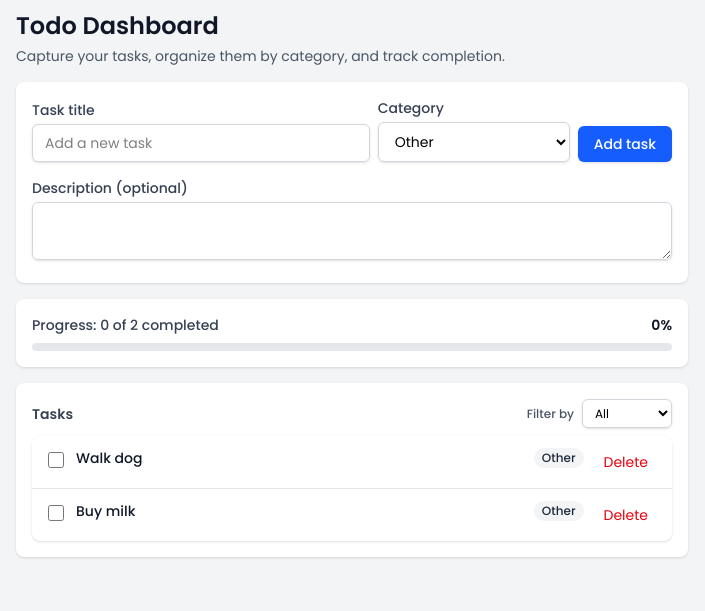
TodoDashboard add task › shows validation error when title is empty
Click the button "Add task": {"x": 625, "y": 144} [578,126,672,162]
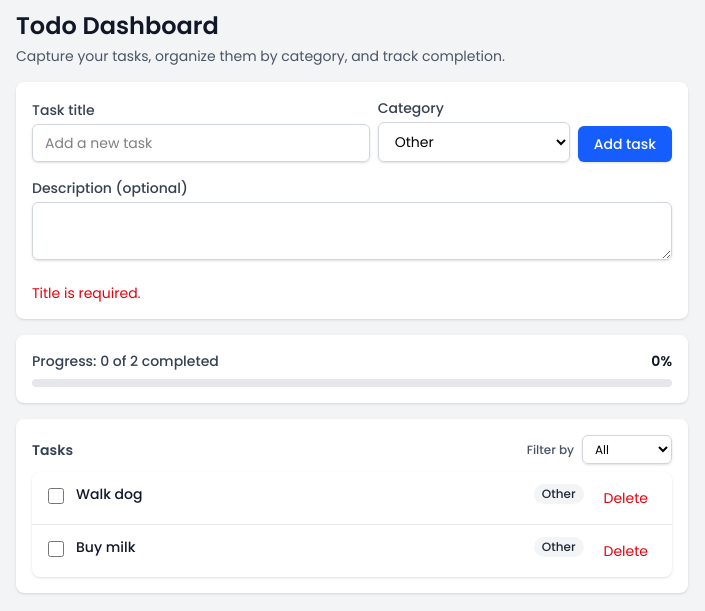
Expected: the text "Title is required." is shown, [32,283,140,303]
